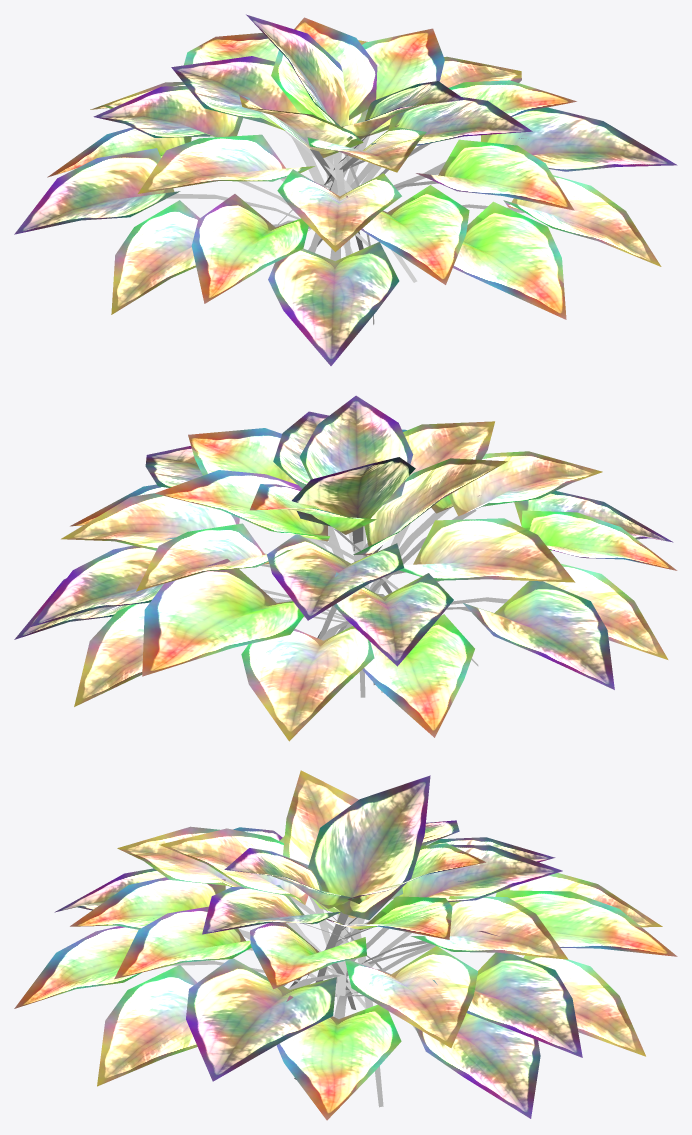
Rendered from hosta_02_SM.fbx.
The picture shows the model from 3 angles, top to bottom: view 1: azimuth 30°, elevation 25°; view 2: azimuth 150°, elevation 25°; view 3: azimuth 270°, elevation 25°; orthographic projection. The views are drawn at different scales.
Visible parts, largest first — view 1: hosta_02_SM_LOD0; view 2: hosta_02_SM_LOD0; view 3: hosta_02_SM_LOD0.
Boxes of the visible parts, box(x1,y1,x2,y2) form: hosta_02_SM_LOD0: box(14, 14, 677, 365); hosta_02_SM_LOD0: box(14, 395, 677, 741); hosta_02_SM_LOD0: box(14, 770, 677, 1120).
Bounding box in the file's own units: 203 × 204 × 95.76.
Materials: 2 (1 with a texture image).
